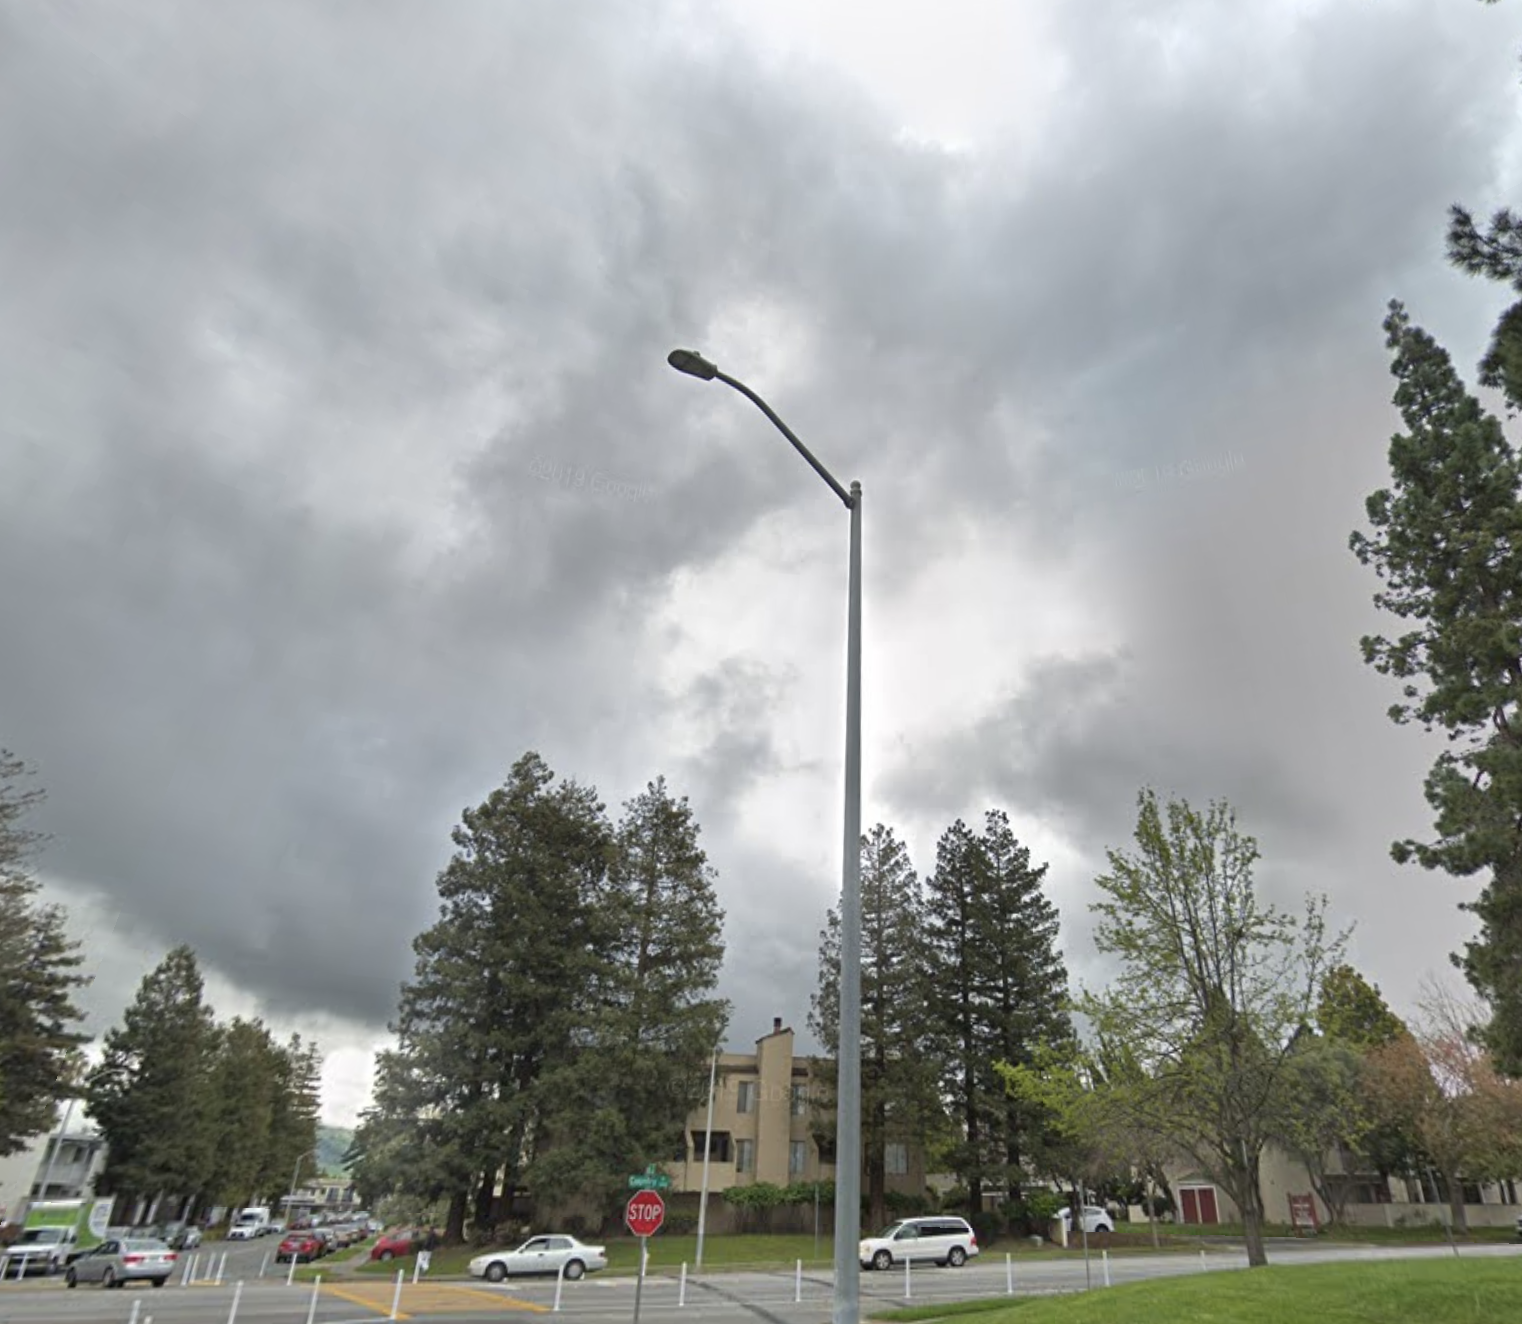pole: (647, 335, 877, 755)
